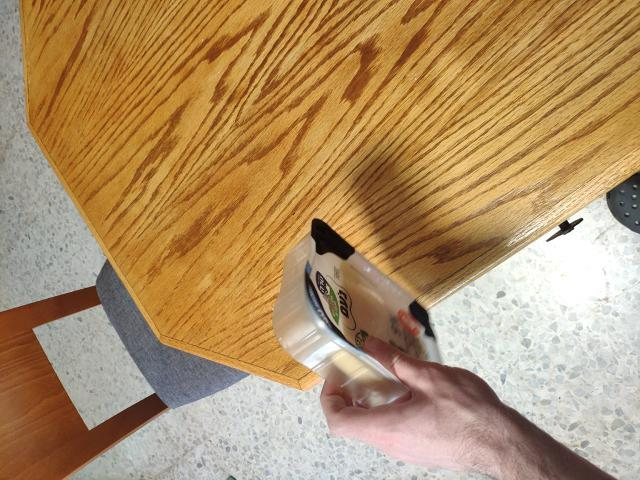cheese: (244, 219, 491, 394)
